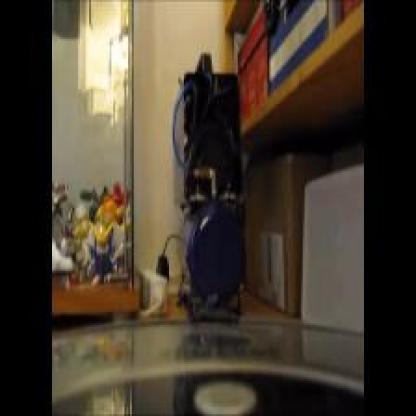other: (67, 3, 127, 119), (68, 184, 125, 242), (230, 37, 270, 118)
